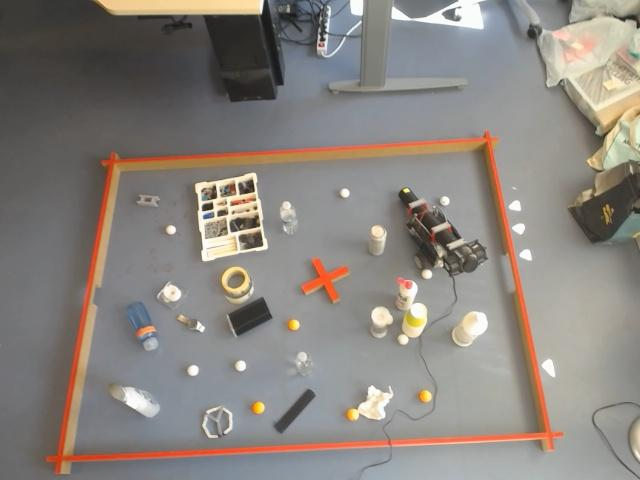orange: (250, 401, 266, 415), (419, 390, 432, 403), (348, 409, 359, 421), (289, 320, 300, 329)
robot: (398, 188, 487, 279)
robot-front: (399, 187, 417, 205)
white: (421, 268, 432, 280), (188, 365, 199, 377), (235, 360, 246, 371), (399, 334, 408, 345), (166, 225, 176, 234), (441, 196, 450, 206), (341, 188, 349, 197)
